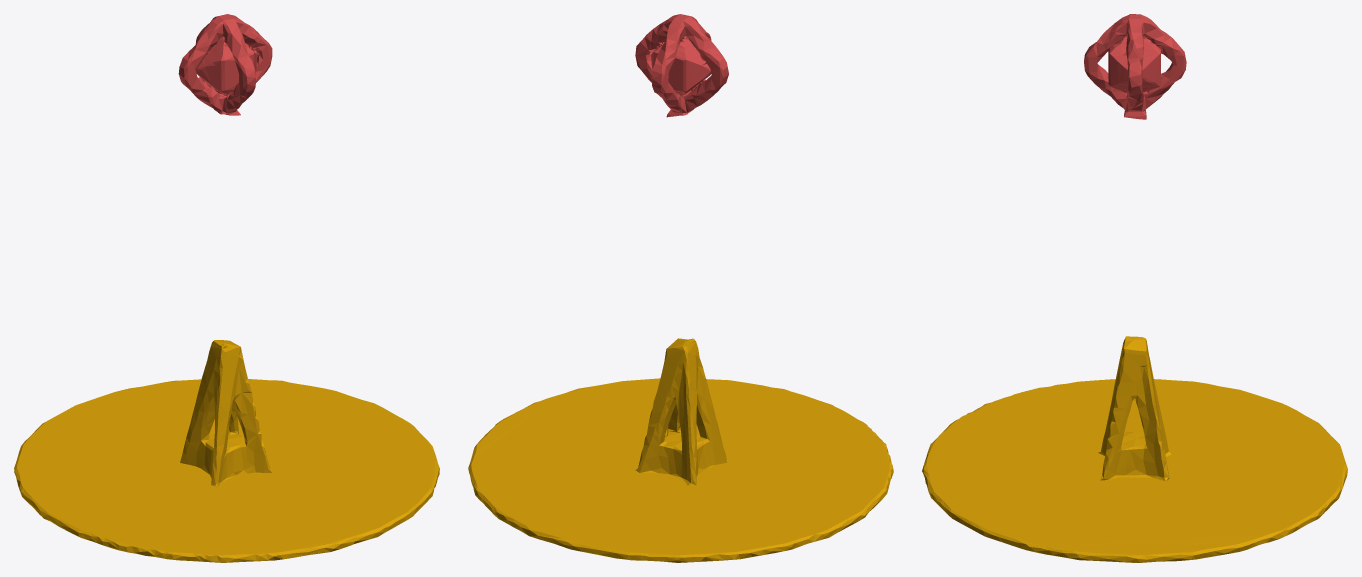
File: fractured_57_2pcs_transformed.glb
3 views of the same model, side by side, from view 1: azimuth 30°, elevation 25°; view 2: azimuth 150°, elevation 25°; view 3: azimuth 270°, elevation 25° (orthographic).
Visible parts, largest first — view 1: piece_0.obj, piece_1.obj; view 2: piece_0.obj, piece_1.obj; view 3: piece_0.obj, piece_1.obj.
Part boxes in pixels (x1,y1,x2,y2): piece_0.obj: (14, 340, 439, 562); piece_1.obj: (178, 14, 272, 115); piece_0.obj: (468, 338, 893, 562); piece_1.obj: (635, 14, 728, 117); piece_0.obj: (922, 336, 1347, 562); piece_1.obj: (1084, 14, 1186, 119).
Bounding box in the file's own units: 0.9998 × 1.18 × 1.
